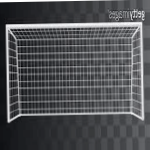goals: (4, 20, 148, 125)
